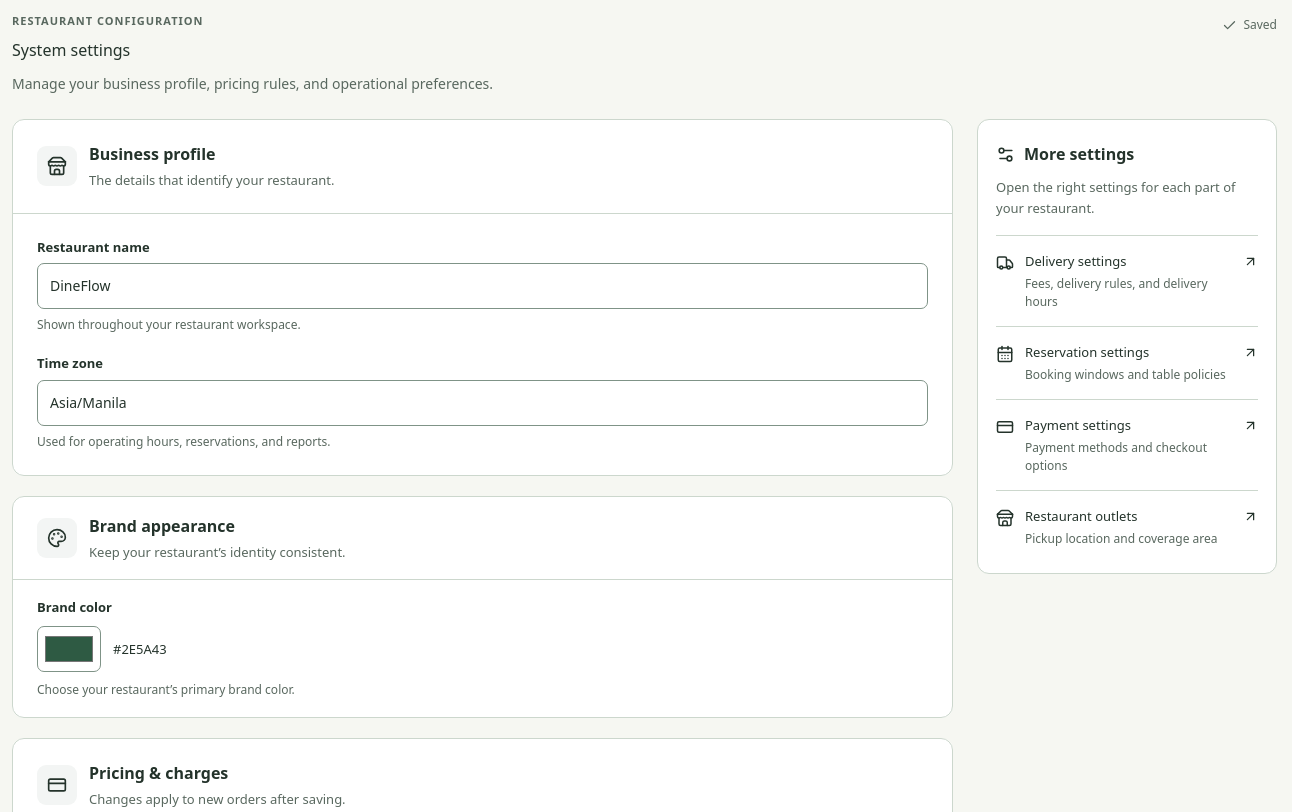
it: keeps editable draft values when the server rejects a save
Replace the text in the field labelled "Restaurant name" with "Keep my draft": [482, 286] box x1=37 y1=263 x2=928 y2=309
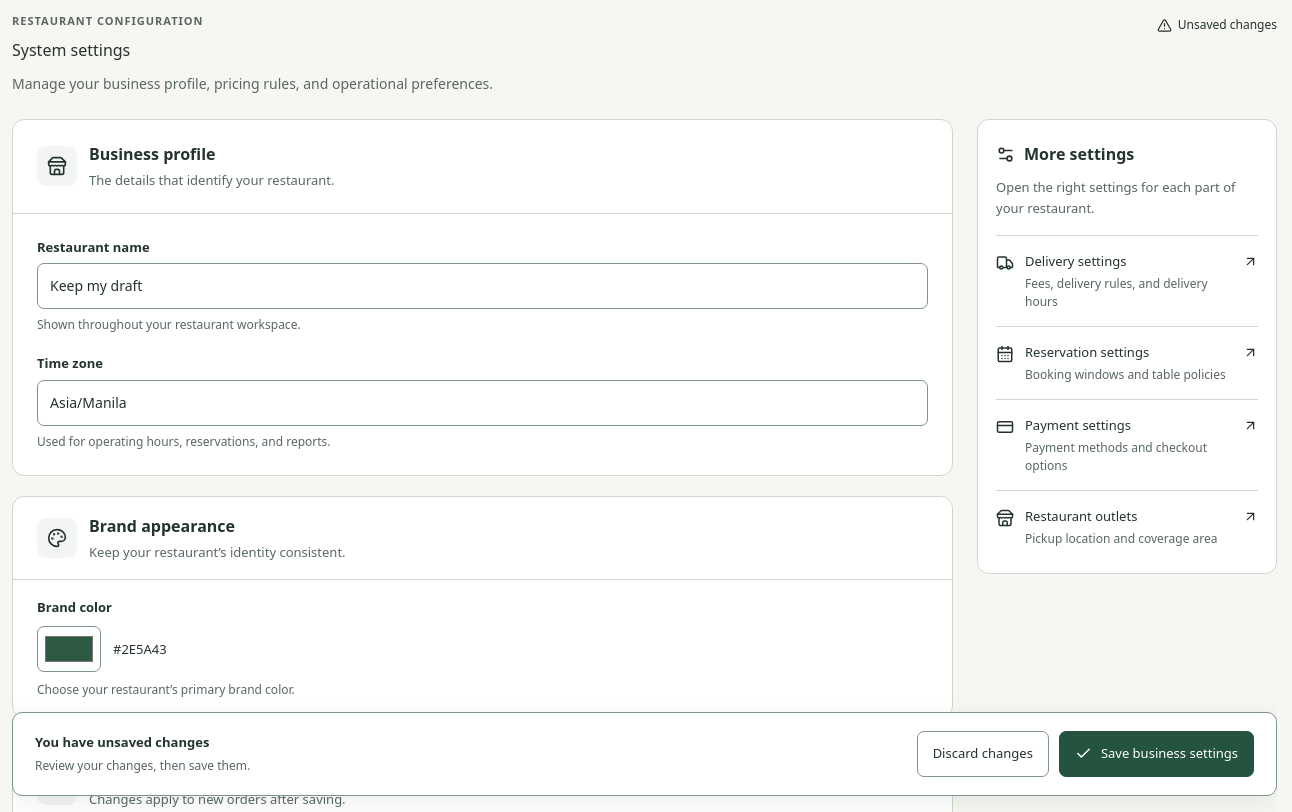
Click the button "Save business settings": [1156, 754] box x1=1059 y1=731 x2=1254 y2=777
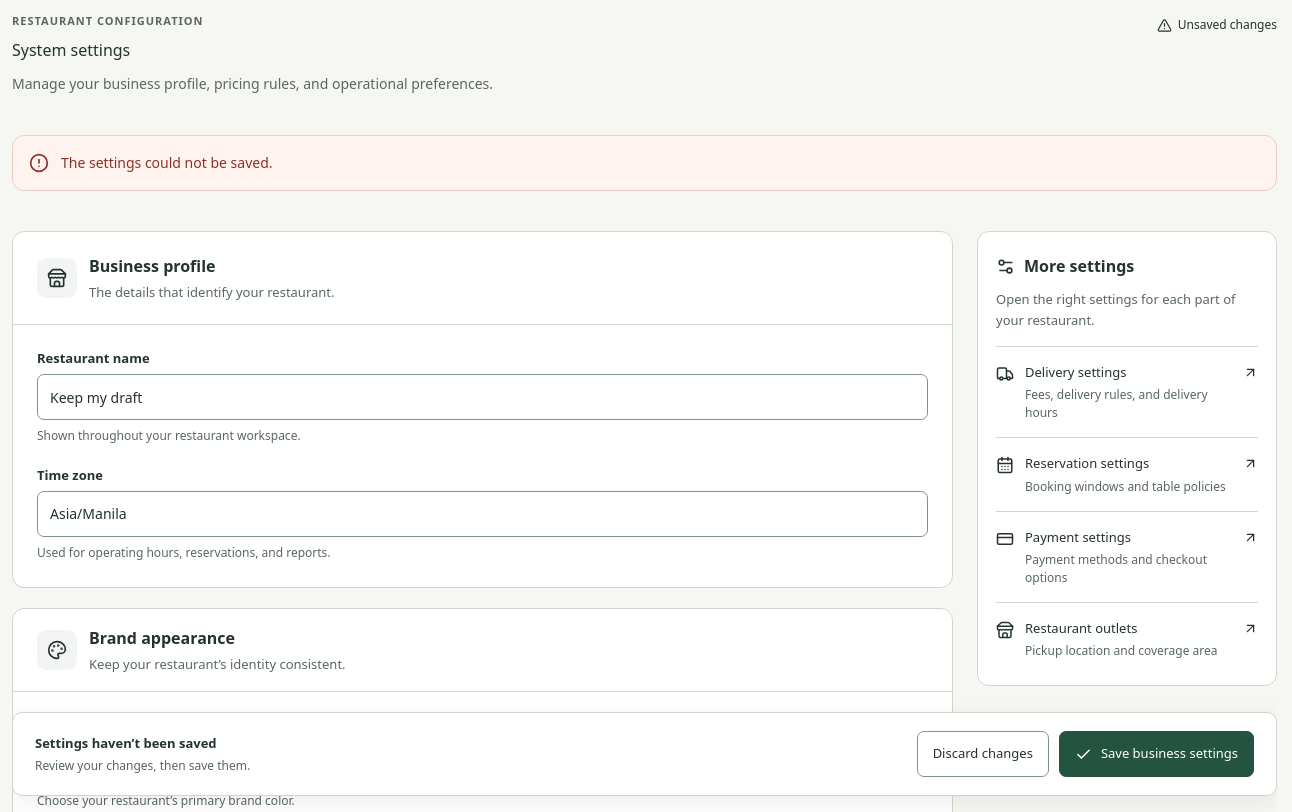
Expected: the button "Save business settings" is enabled, x1=1059 y1=731 x2=1254 y2=777
Expected: the message "The settings could not be saved." is shown, x1=12 y1=135 x2=1277 y2=191
